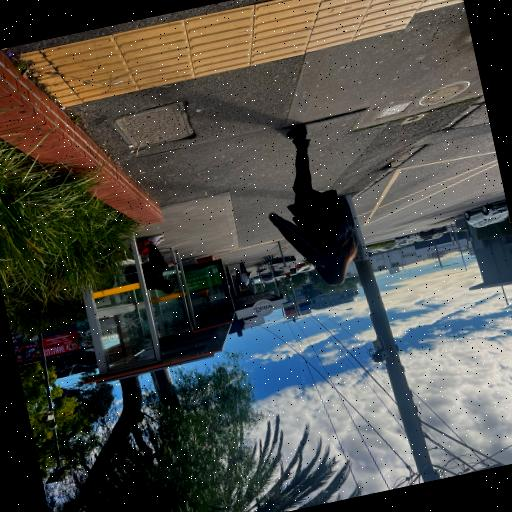Obstruction: (353, 197, 425, 444)
clear_path: (39, 0, 415, 255)
signage: (277, 240, 313, 320)
tgsi: (18, 0, 460, 107), (213, 237, 284, 256)
